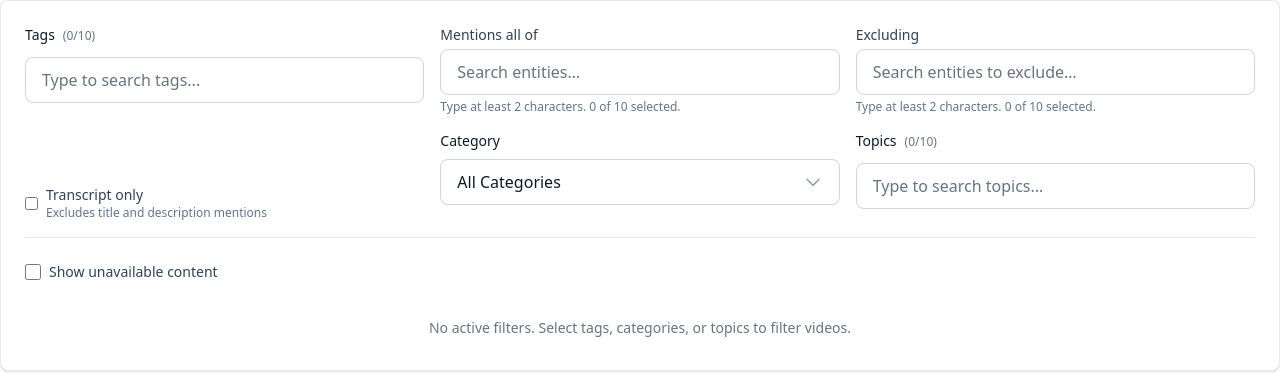
Test case: VideoFilters — entity intersection (Feature 062) › selection › offers suggestions only at two characters or more
The width and height of the screenshot is (1280, 389).
Type "a" into the dropdown labelled "Mentions all of" at [640, 72], box [440, 49, 840, 95]
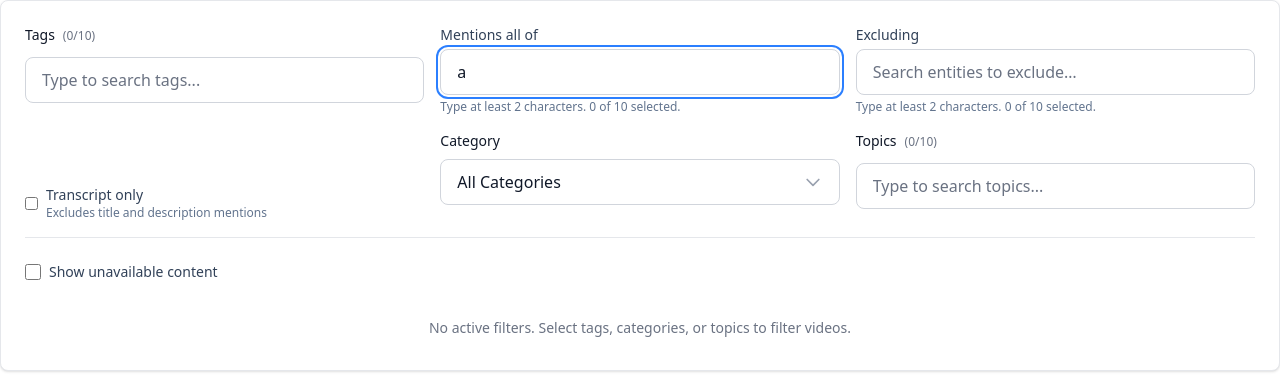
Type "d" into the dropdown labelled "Mentions all of" at [640, 72], box [440, 49, 840, 95]
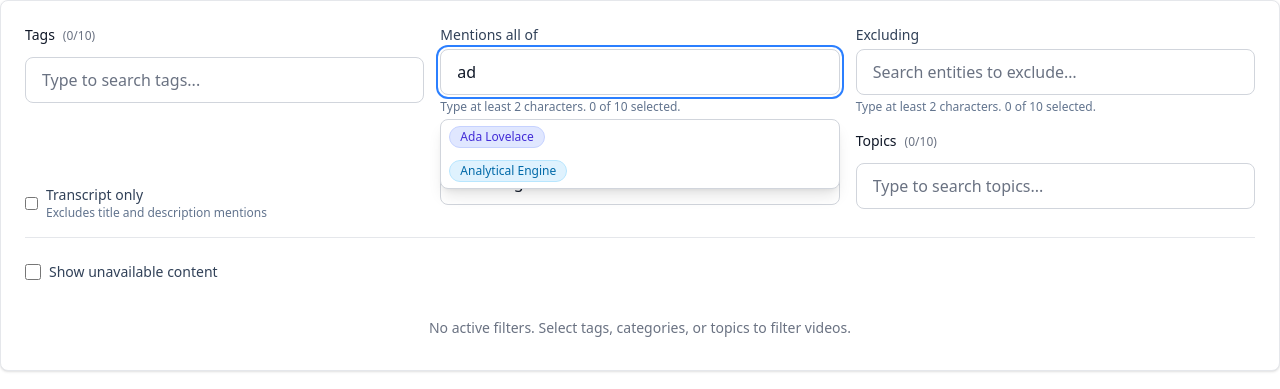
Check: the list is shown, box [440, 119, 840, 189]
